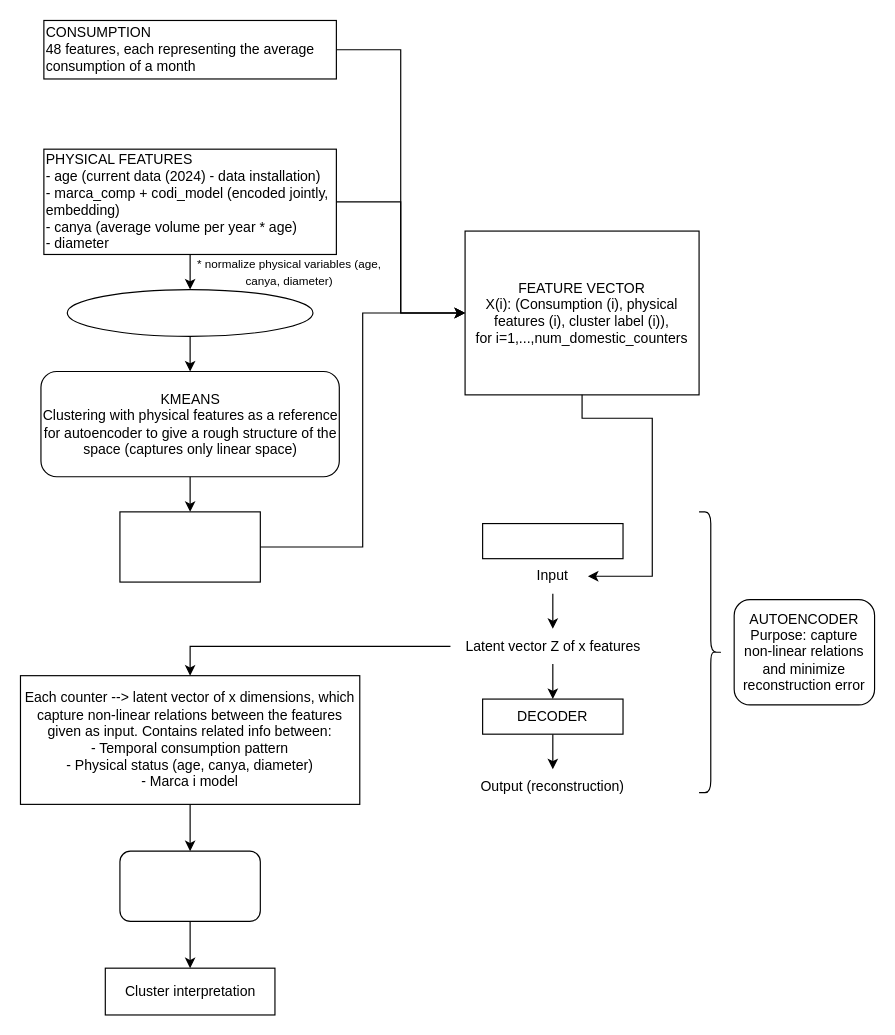
This 895x1035 diagram has some shape labels left out. Each missing label, with the centre of its shape:
"Cluster label" goes at (189,546).
"ENCODER" goes at (552,540).
"KMEANS over vectors z" goes at (189,885).
"Silhouette score to determine k" goes at (189,312).
